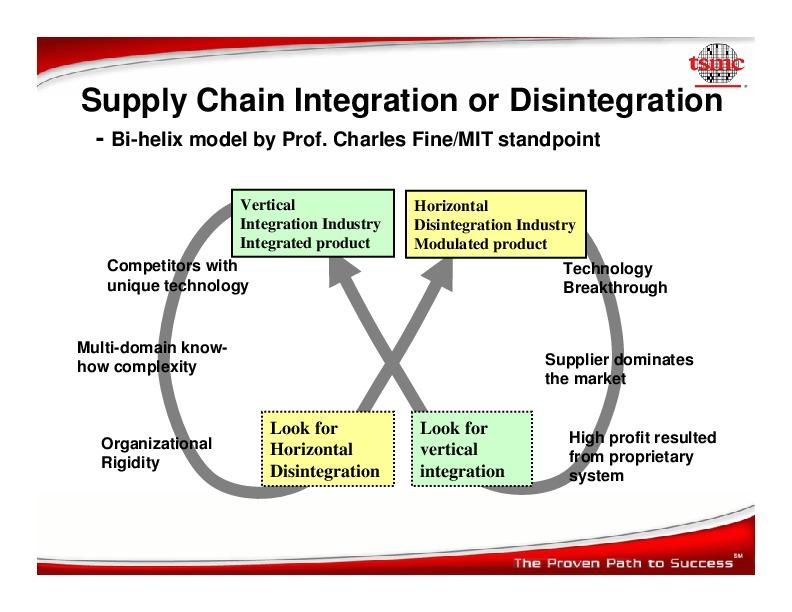subtitle: (498, 542, 750, 582)
title: (75, 80, 729, 122)
